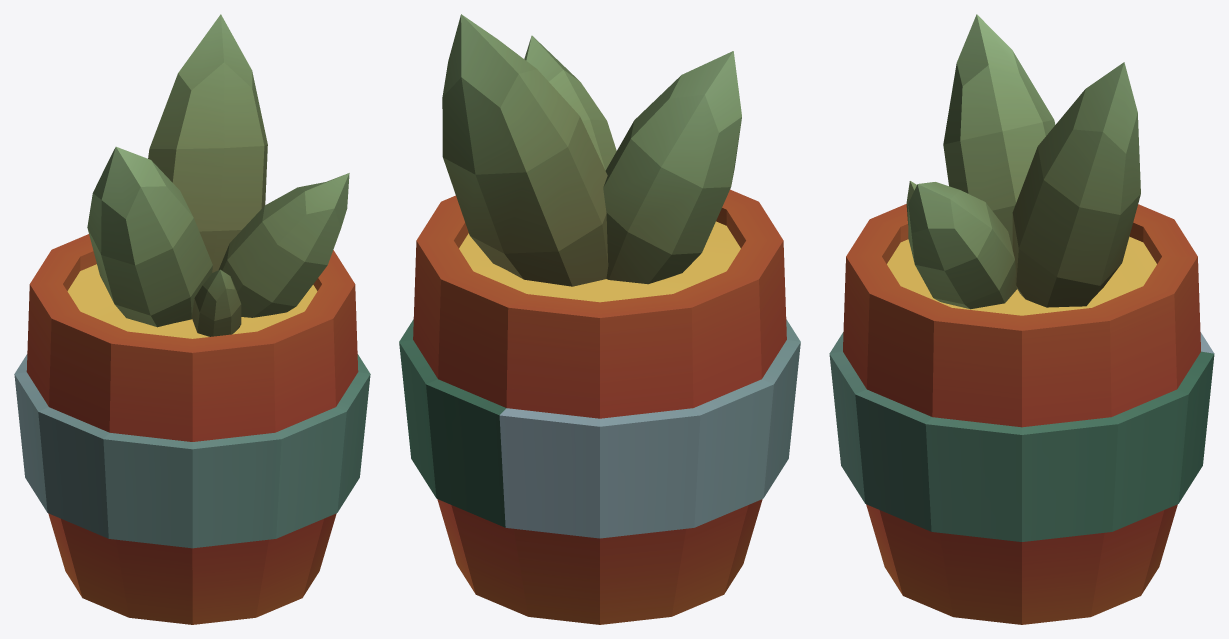
File: sp_plant_plantpot_a.fbx
The picture shows the model from 3 angles, left to right: view 1: azimuth 30°, elevation 25°; view 2: azimuth 150°, elevation 25°; view 3: azimuth 270°, elevation 25°; orthographic projection. The views are drawn at different scales.
Visible parts, largest first — view 1: sp_plant_plantpot_a; view 2: sp_plant_plantpot_a; view 3: sp_plant_plantpot_a.
Boxes of the visible parts, left/top/right/bottom form: sp_plant_plantpot_a: left=14, top=14, right=370, bottom=624; sp_plant_plantpot_a: left=399, top=14, right=800, bottom=624; sp_plant_plantpot_a: left=829, top=14, right=1214, bottom=624.
Bounding box in the file's own units: 13.82 × 21.57 × 13.82.
